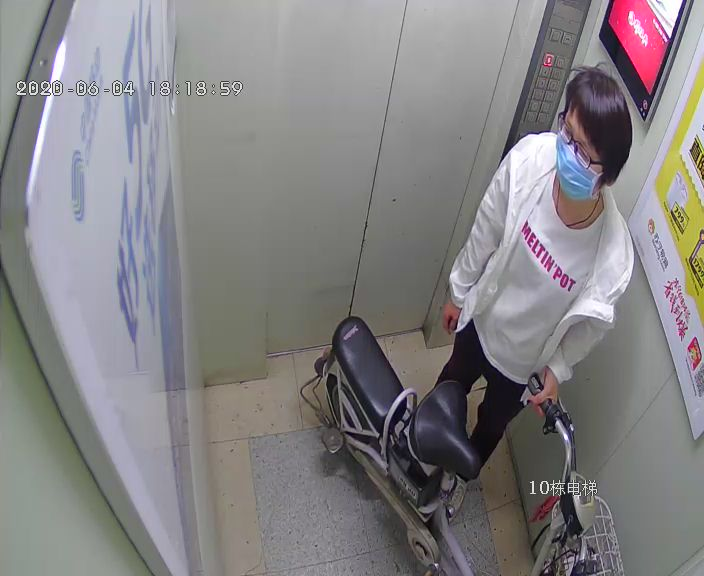Electric-bicycle: (299, 313, 623, 569)
